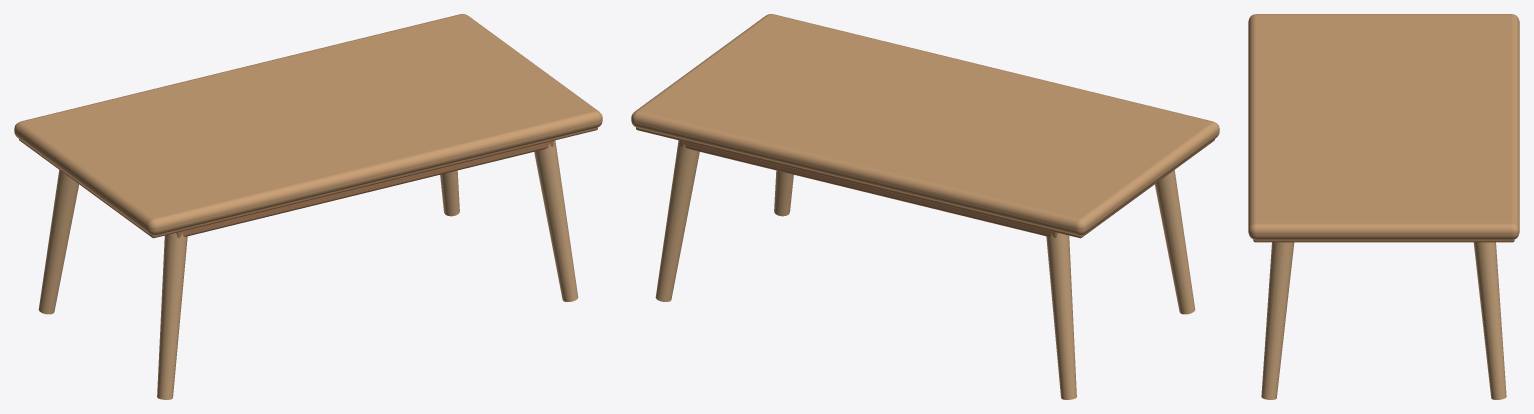
File: family-maple-table-v1.glb
The picture shows the model from 3 angles, left to right: view 1: azimuth 30°, elevation 25°; view 2: azimuth 150°, elevation 25°; view 3: azimuth 270°, elevation 25°; orthographic projection. The views are drawn at different scales.
Visible parts, largest first — view 1: Maple-slab, Tapered leg (×4), Apron, Inset eased underside; view 2: Maple-slab, Tapered leg (×4), Apron, Inset eased underside; view 3: Maple-slab, Tapered leg (×2), Inset eased underside.
Boxes of the visible parts, x1,y1,x2,y2 form: Maple-slab: (14,14,602,235); Tapered leg (×4): (38,140,578,399); Apron: (176,141,553,237); Inset eased underside: (19,127,597,238); Maple-slab: (631,14,1219,235); Tapered leg (×4): (655,140,1195,399); Apron: (680,141,1057,237); Inset eased underside: (636,127,1214,238); Maple-slab: (1248,14,1519,239); Tapered leg (×2): (1261,242,1506,399); Inset eased underside: (1253,239,1514,242).
Bounding box in the file's own units: 1.84 × 0.7323 × 0.98.
